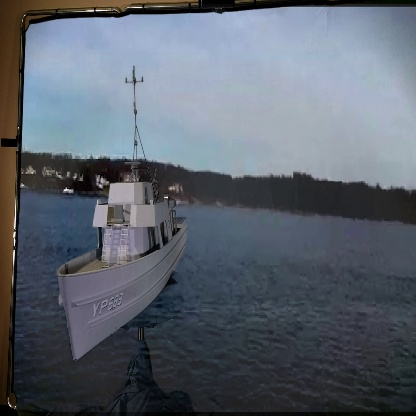YP689: (54, 63, 187, 365)
